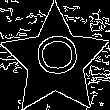O_W: (31, 38, 80, 83)
